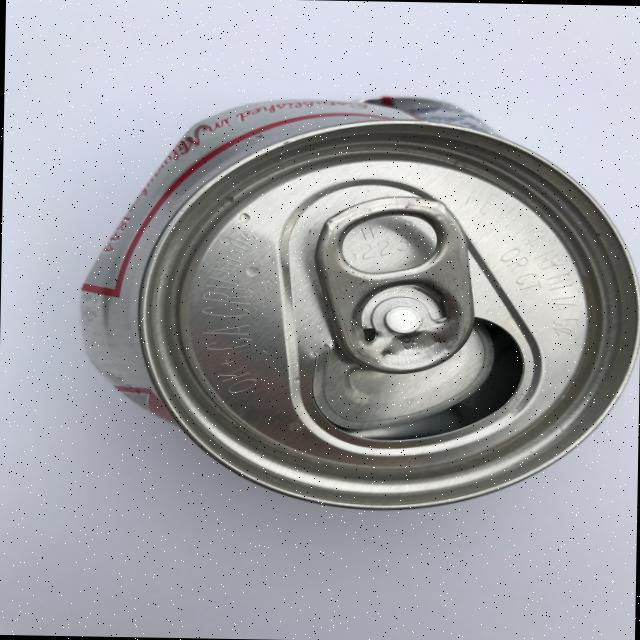metal: (75, 90, 640, 514)
